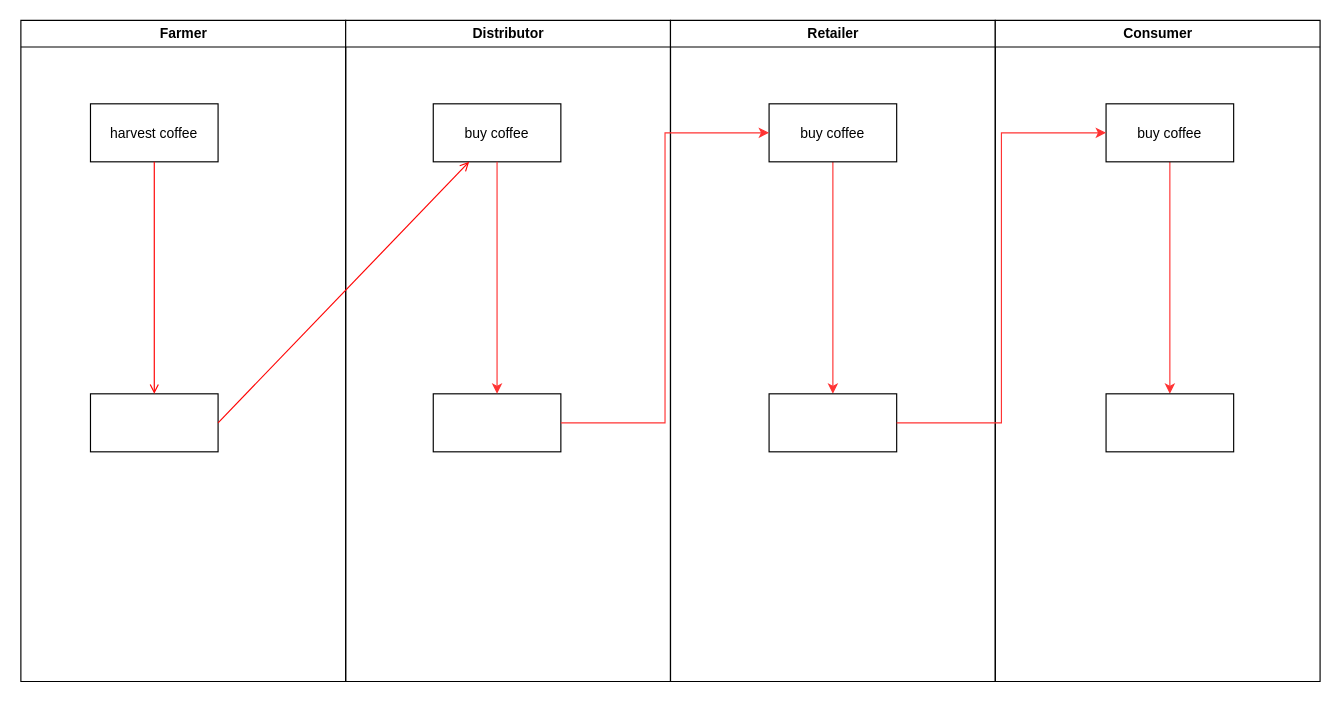
Image size: 1340x702. Some labels were removed from this diagram. The centre of each missing label's shape, as x and y in pixels:
"process coffee" belongs at point 153,422.
"put on sale" belongs at point 832,422.
"ready for distribution" belongs at point 496,422.
"taste the coffee" belongs at point 1169,422.
